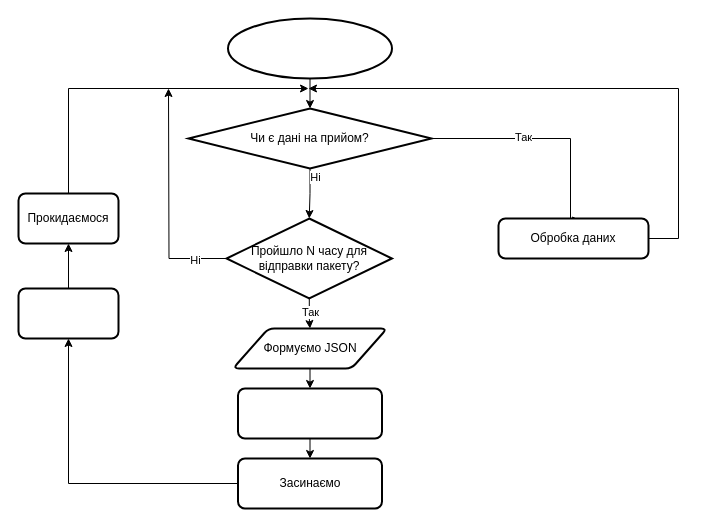
Some shapes in this 704 by 526 pixel diagram are drawn without their labels. Each missing label, with the centre of its shape:
Відправляємо дані через LoRa: point (309, 413)
Спимо визначений час: point (68, 313)
Старт: point (309, 48)
